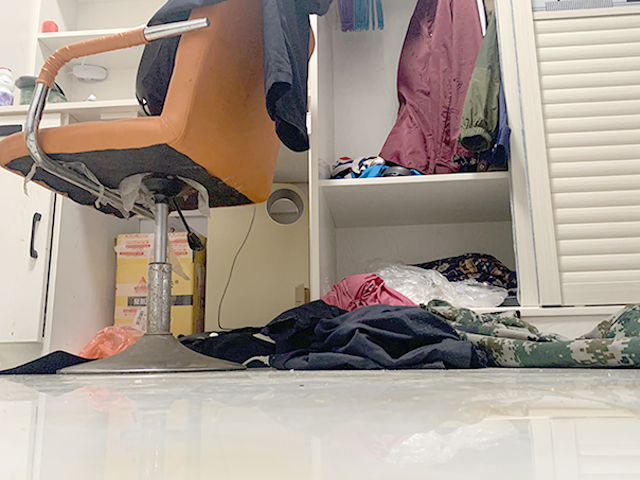cabinet: (307, 104, 640, 367)
stool: (1, 2, 316, 376)
